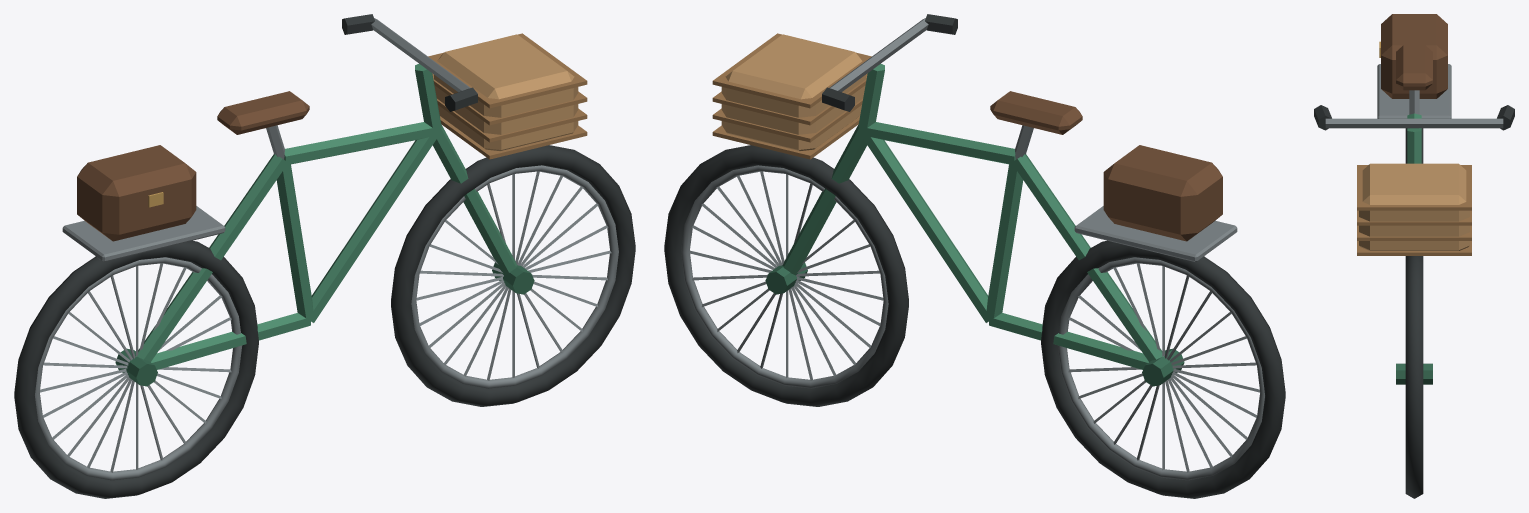
The picture shows the model from 3 angles, left to right: view 1: azimuth 30°, elevation 25°; view 2: azimuth 150°, elevation 25°; view 3: azimuth 270°, elevation 25°; orthographic projection. The views are drawn at different scales.
Parts seen in each view (by area): view 1: lane_rubber, lane_rail, lane_shutter, lane_wood_dark, lane_wood_light, lane_wood, lane_shutter_dark; view 2: lane_rubber, lane_rail, lane_shutter, lane_wood_dark, lane_wood_light, lane_wood, lane_shutter_dark; view 3: lane_wood_light, lane_wood_dark, lane_rubber, lane_rail, lane_wood, lane_shutter, lane_shutter_dark.
Part boxes in pixels (x1,y1,x2,y2): lane_rubber: [14, 14, 635, 498]; lane_rail: [35, 18, 618, 480]; lane_shutter: [135, 64, 517, 369]; lane_wood_dark: [77, 91, 309, 241]; lane_wood_light: [434, 34, 578, 150]; lane_wood: [428, 33, 587, 159]; lane_shutter_dark: [115, 262, 534, 386]; lane_rubber: [664, 14, 1285, 498]; lane_rail: [681, 18, 1264, 480]; lane_shutter: [782, 64, 1164, 369]; lane_wood_dark: [990, 91, 1222, 241]; lane_wood_light: [721, 34, 865, 150]; lane_wood: [712, 33, 871, 159]; lane_shutter_dark: [765, 262, 1184, 386]; lane_wood_light: [1359, 163, 1469, 250]; lane_wood_dark: [1381, 14, 1447, 98]; lane_rubber: [1314, 105, 1514, 498]; lane_rail: [1325, 64, 1503, 128]; lane_wood: [1357, 165, 1471, 255]; lane_shutter: [1407, 113, 1421, 163]; lane_shutter_dark: [1396, 363, 1432, 384].
Bounding box in the file's own units: 1.72 × 0.99 × 0.5416.
